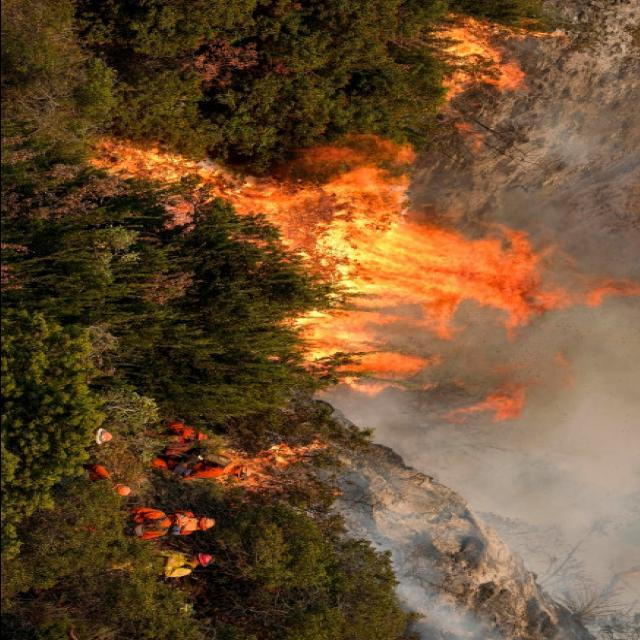Fire: (94, 20, 632, 502)
